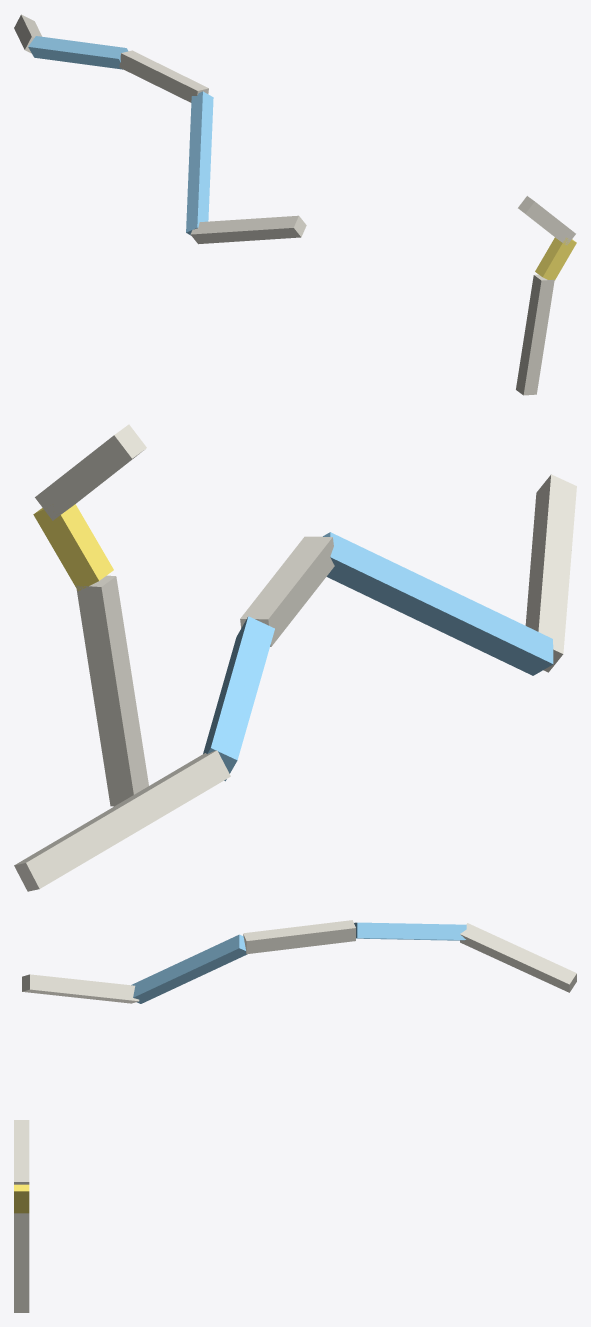
3 views of the same model, one above another, from view 1: azimuth 30°, elevation 25°; view 2: azimuth 150°, elevation 25°; view 3: azimuth 270°, elevation 25° (orthographic). The views are drawn at different scales.
Visible parts, largest first — view 1: t30_g10_p2; view 2: t30_g10_p2; view 3: t30_g10_p2.
Part boxes in pixels (x1,y1,x2,y2): t30_g10_p2: [14, 14, 576, 395]; t30_g10_p2: [14, 424, 576, 891]; t30_g10_p2: [14, 920, 576, 1312].
Bounding box in the file's own units: 4.39 × 3.56 × 6.58.
